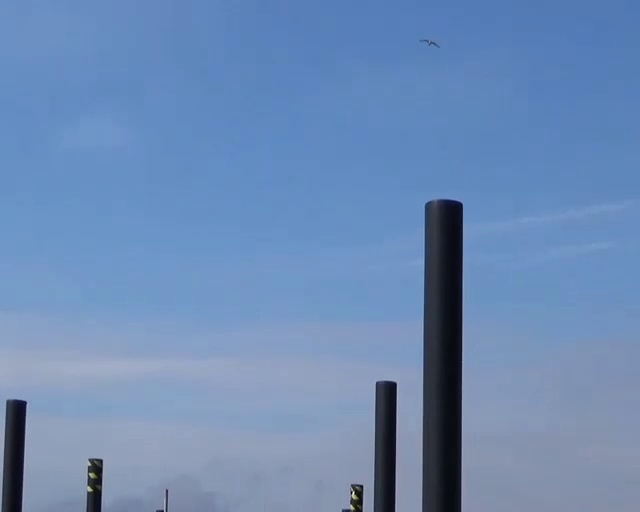BIRD: (419, 38, 440, 47)
